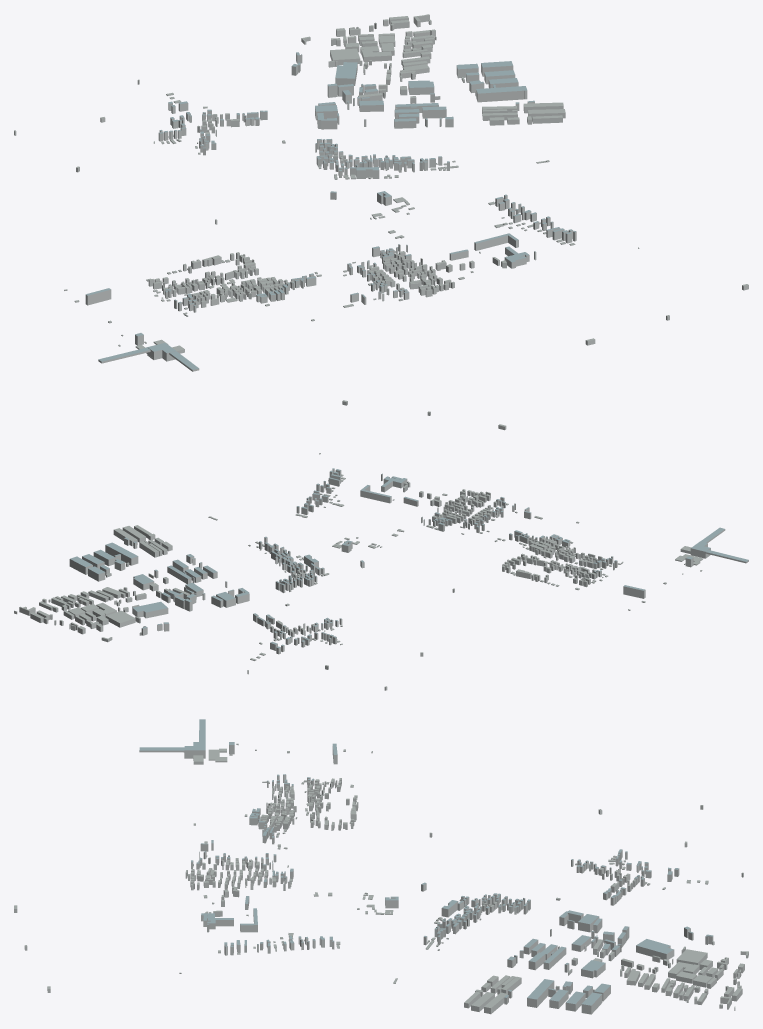
The model's file is far.glb.
3 renders of one model, top to bottom at view 1: azimuth 30°, elevation 25°; view 2: azimuth 150°, elevation 25°; view 3: azimuth 270°, elevation 25°, orthographic. The views are drawn at different scales.
Bounding box in the file's own units: 1810 × 32.4 × 1956.
